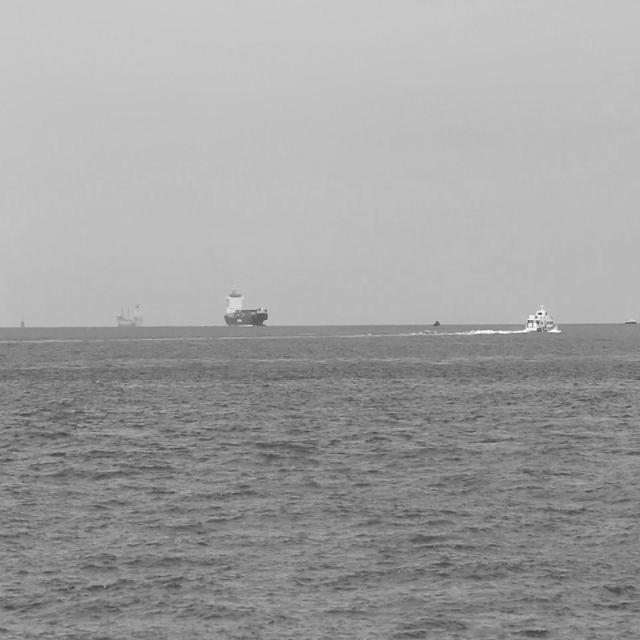ship: (222, 278, 271, 330), (523, 298, 559, 336), (116, 296, 147, 331), (622, 313, 638, 327)
